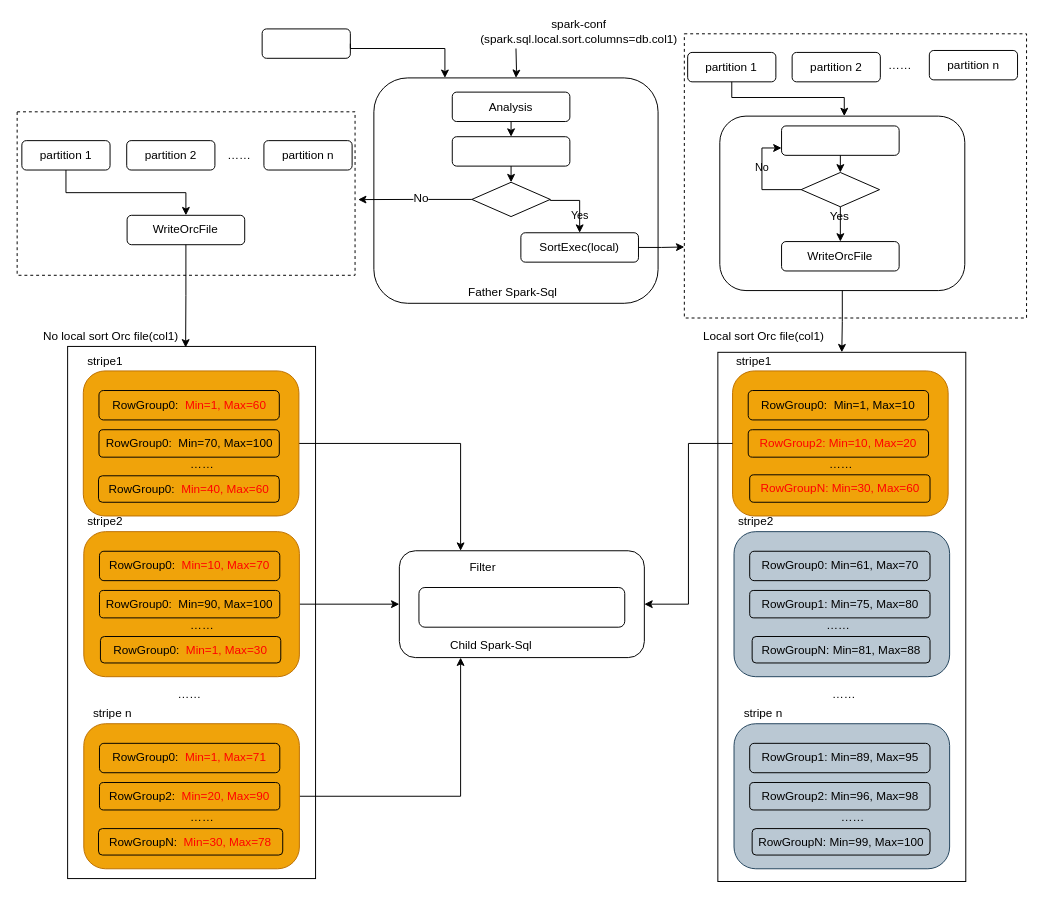
Image size: 1044x899. Some labels were removed from this diagram. Each missing label, with the centre of its shape:
"InMemorySort" goes at pixel 840 140.
"localSort" goes at pixel 510 199.
"metastore" goes at pixel 305 43.
"SaveAsHiveTable" goes at pixel 510 151.
"Spill" goes at pixel 840 189.
"where father.col1 between 15 and 50" goes at pixel 521 607.
